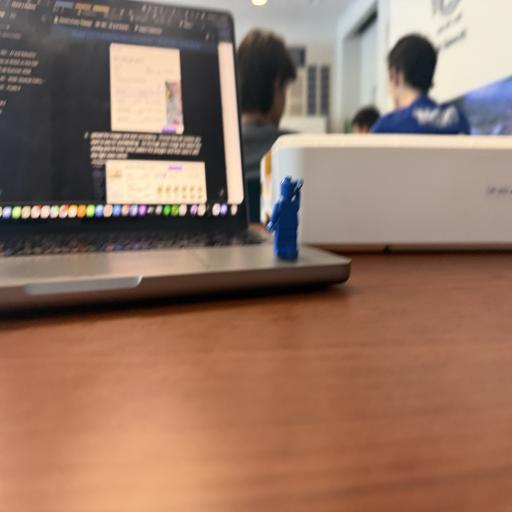Minifig: (267, 176, 303, 259)
